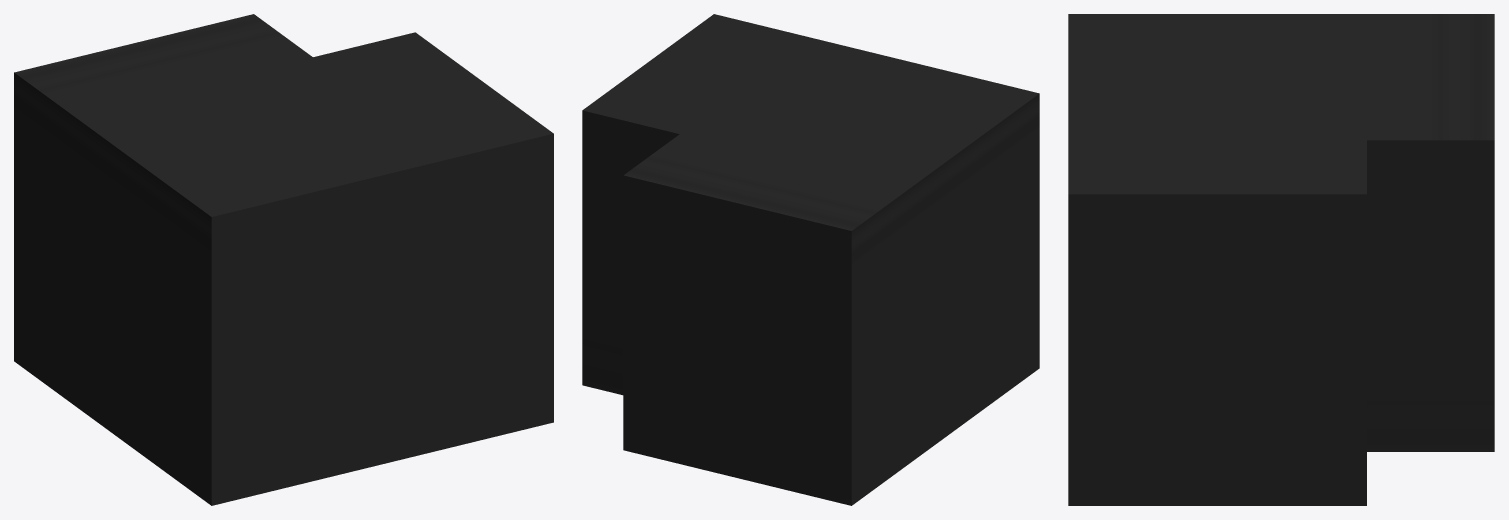
The model's file is CabinetDCorner02.glb.
3 renders of one model, left to right at view 1: azimuth 30°, elevation 25°; view 2: azimuth 150°, elevation 25°; view 3: azimuth 270°, elevation 25°, orthographic. The views are drawn at different scales.
Parts seen in each view (by area): view 1: CabinetDCorner02_model; view 2: CabinetDCorner02_model; view 3: CabinetDCorner02_model.
Boxes of the visible parts, x1=… form: CabinetDCorner02_model: x1=14, y1=14, x2=553, y2=505; CabinetDCorner02_model: x1=582, y1=14, x2=1039, y2=505; CabinetDCorner02_model: x1=1068, y1=14, x2=1494, y2=505.
Bounding box in the file's own units: 1.72 × 1.39 × 1.72.
Materials: 1 (1 with a texture image).
